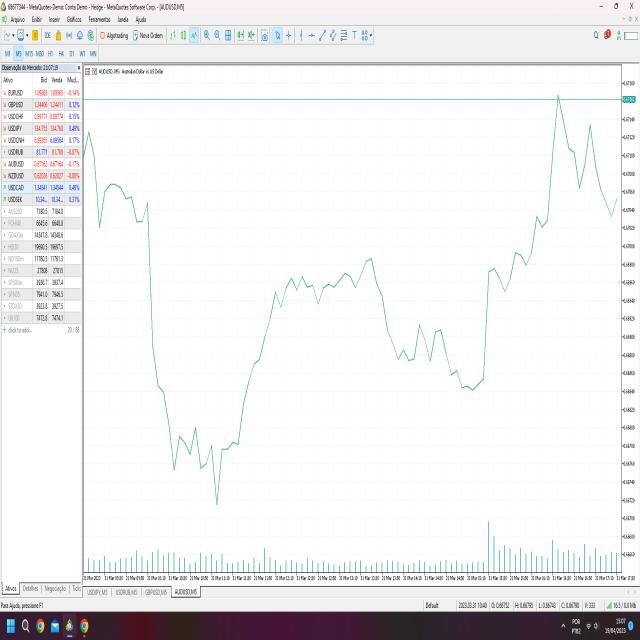bandeira_alta: (480, 211, 533, 410)
oco_inv: (153, 358, 258, 518)
